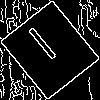I: (25, 25, 66, 69)
